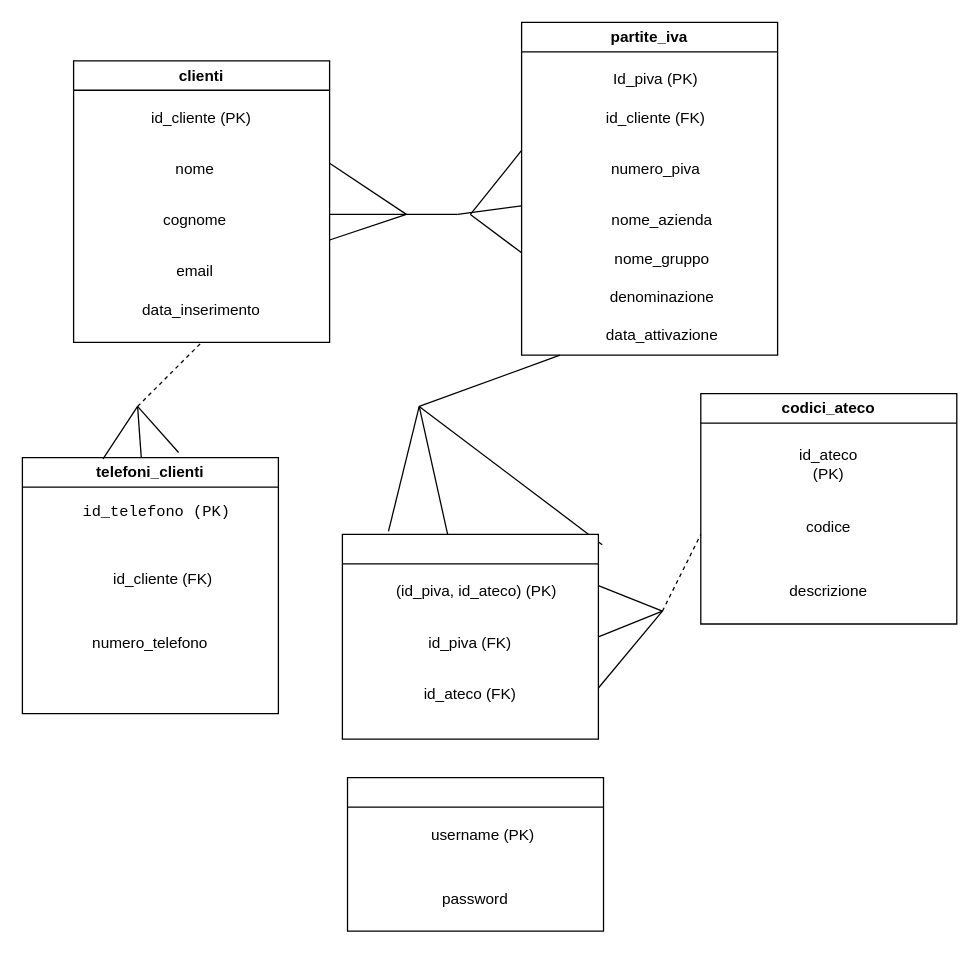
This 979x954 diagram has some shape labels left out. Each missing label, with the box of its shape:
admin: (346, 776, 604, 931)
piva_ateco: (341, 533, 598, 739)
